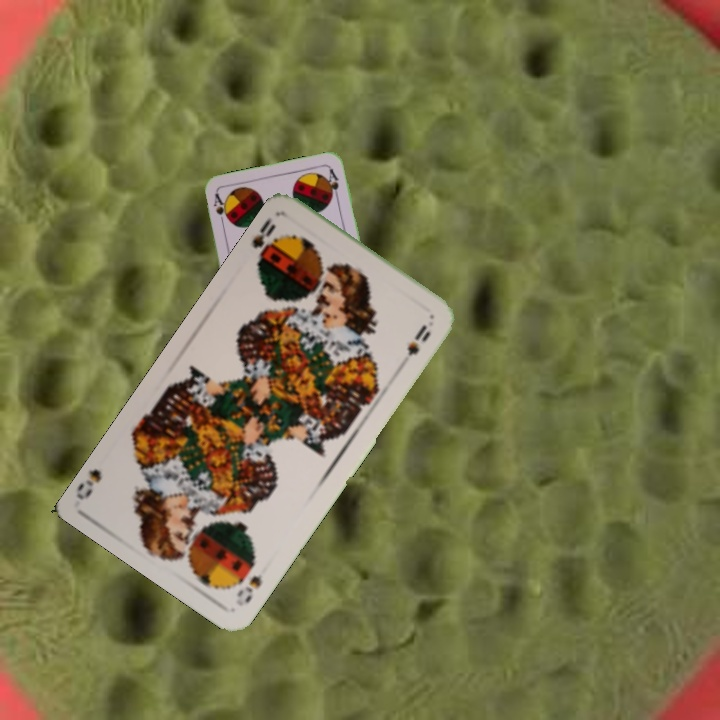SA: (209, 190, 229, 230)
SO: (248, 213, 281, 270), (232, 570, 265, 606)
